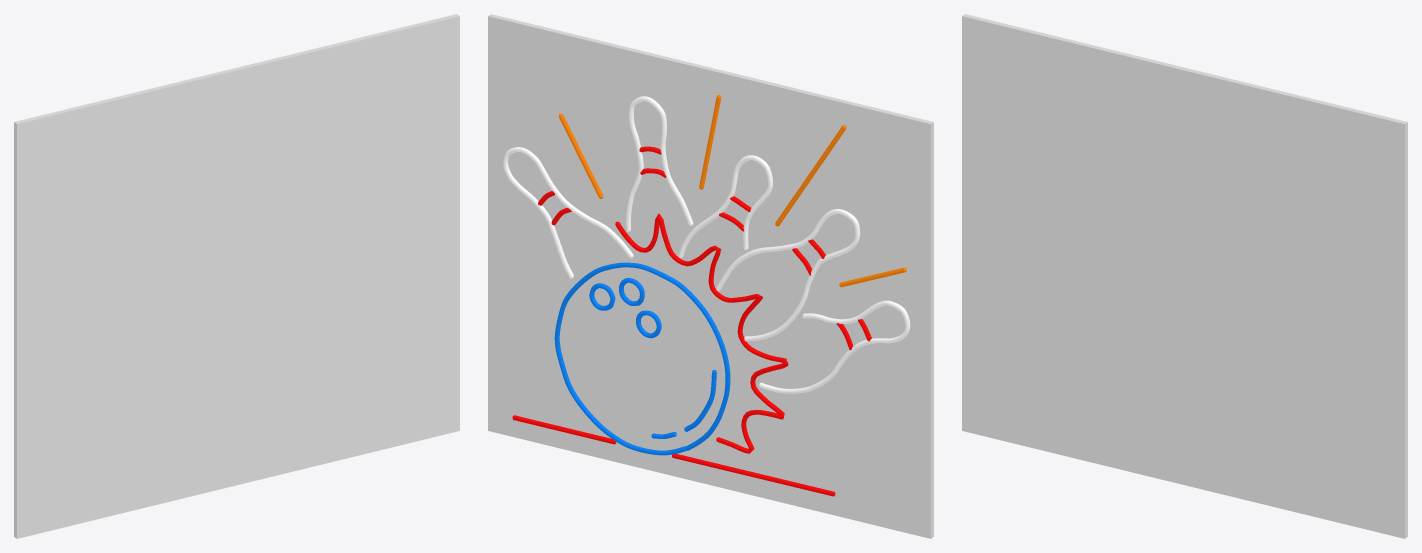
The model's file is ボウリング.glb.
3 views of the same model, side by side, from view 1: azimuth 30°, elevation 25°; view 2: azimuth 150°, elevation 25°; view 3: azimuth 330°, elevation 25° (orthographic).
Size of the model in its own units: 600 by 537 by 17.
